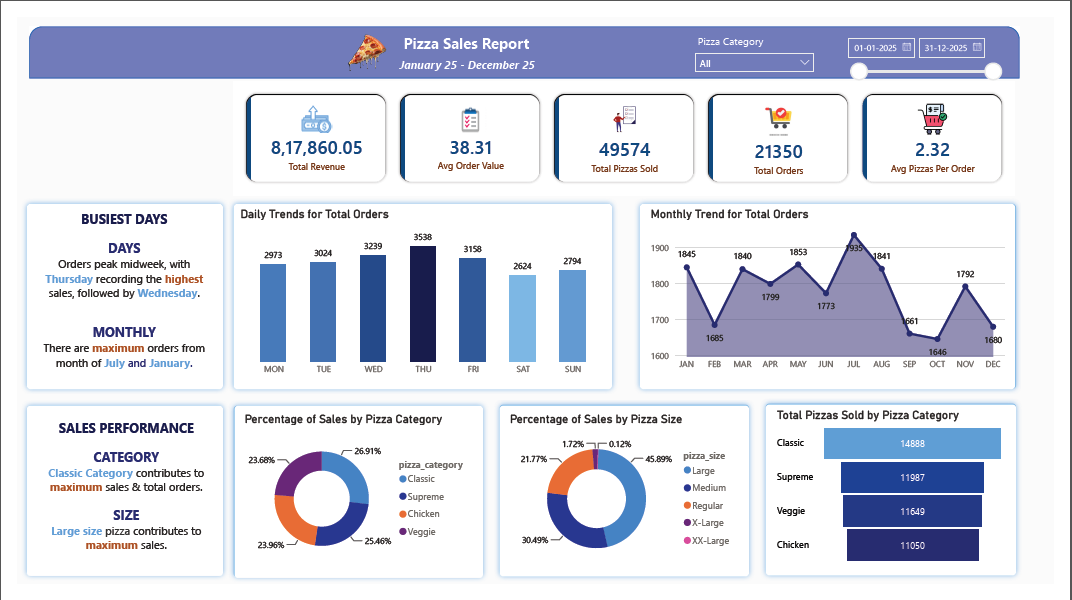

What the dashboard file says about the page in this screenshot:
{"tool":"powerbi","page":{"name":"Home","canvas":[1500,820],"ordinal":0},"visuals":[{"type":"cardVisual","fields":{"Data":["pizza_sales.Total Revenue","pizza_sales.Avg Order Value","pizza_sales.Total Pizzas Sold","pizza_sales.Total Orders","pizza_sales.Avg Pizzas Per Order"]},"box":[308.2,88.2,1142.4,174.1],"z":0},{"type":"shape","box":[17.3,13,1434,75],"z":1000},{"type":"textbox","box":[553.9,18.5,201.4,42],"z":2000},{"type":"textbox","box":[548.2,53.4,219.3,33.2],"z":3000},{"type":"image","box":[463.2,23.5,87.3,57],"z":4000},{"type":"shape","box":[304.7,262.4,564.7,282.4],"z":5000},{"type":"columnChart","title":"Daily Trends for Total Orders","fields":{"Category":["pizza_sales.Order Day"],"Y":["pizza_sales.Total Orders"]},"box":[317.6,274.1,540,254.1],"z":6000},{"type":"shape","box":[892.9,262.4,560,282.4],"z":7000},{"type":"areaChart","title":"Monthly Trend for Total Orders","fields":{"Y":["pizza_sales.Total Orders"],"Category":["pizza_sales.Order Month"]},"box":[911.8,274.1,522.4,245.9],"z":8000},{"type":"shape","box":[306.5,553.8,375.3,264.5],"z":9000},{"type":"shape","box":[689.7,554.1,377.3,263.3],"z":10000},{"type":"shape","box":[1076.3,551.6,377.4,263.4],"z":12000},{"type":"donutChart","title":"Percentage of Sales by Pizza Category","fields":{"Category":["pizza_sales.pizza_category"],"Y":["pizza_sales.Total Revenue"]},"box":[323.7,571,341.9,233.3],"z":13000},{"type":"donutChart","title":"Percentage of Sales by Pizza Size","fields":{"Category":["pizza_sales.pizza_size"],"Y":["pizza_sales.Total Revenue"]},"box":[707.5,571,341.9,233.3],"z":14000},{"type":"funnel","title":"Total Pizzas Sold by Pizza Category","fields":{"Category":["pizza_sales.pizza_category"],"Y":["pizza_sales.Total Pizzas Sold"]},"box":[1095,566.2,338.8,230],"z":15000},{"type":"shape","box":[5.8,262.3,300,282.6],"z":16000},{"type":"textbox","box":[24.7,274.1,258.8,255.3],"z":17000},{"type":"shape","box":[6.5,553.8,300,261.3],"z":18000},{"type":"textbox","box":[28,576.3,259.1,220.4],"z":19000},{"type":"slicer","title":"Pizza Size","fields":{"Values":["pizza_sales.pizza_category"]},"box":[971.6,19.4,191,62.7],"z":20000},{"type":"slicer","title":"Pizza Size","fields":{"Values":["pizza_sales.order_date"]},"box":[1190.2,20.2,243.8,77.9],"z":21000}]}

Visuals, with their boxes in screenshot pixels (x1, y1, x2, y2), scaled from the page's 1500x820 canvas onto the 1072x600 screenshot:
cardVisual - pizza_sales.Total Revenue x pizza_sales.Avg Order Value: 220,65,1037,192
shape: 12,10,1037,64
textbox: 396,14,540,44
textbox: 392,39,549,63
image: 331,17,393,59
shape: 218,192,621,399
"Daily Trends for Total Orders" columnChart: 227,201,613,386
shape: 638,192,1038,399
"Monthly Trend for Total Orders" areaChart: 652,201,1025,380
shape: 219,405,487,599
shape: 493,405,763,598
shape: 769,404,1039,596
"Percentage of Sales by Pizza Category" donutChart: 231,418,476,589
"Percentage of Sales by Pizza Size" donutChart: 506,418,750,589
"Total Pizzas Sold by Pizza Category" funnel: 783,414,1025,583
shape: 4,192,219,399
textbox: 18,201,203,387
shape: 5,405,219,596
textbox: 20,422,205,583
"Pizza Size" slicer: 694,14,831,60
"Pizza Size" slicer: 851,15,1025,72
